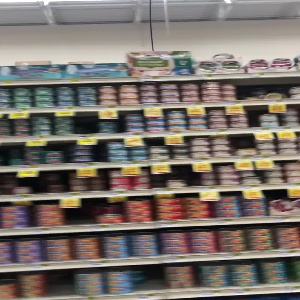void: (135, 263, 167, 295), (31, 169, 70, 194), (47, 268, 72, 296), (73, 113, 99, 134), (148, 164, 166, 189), (187, 164, 204, 186)
